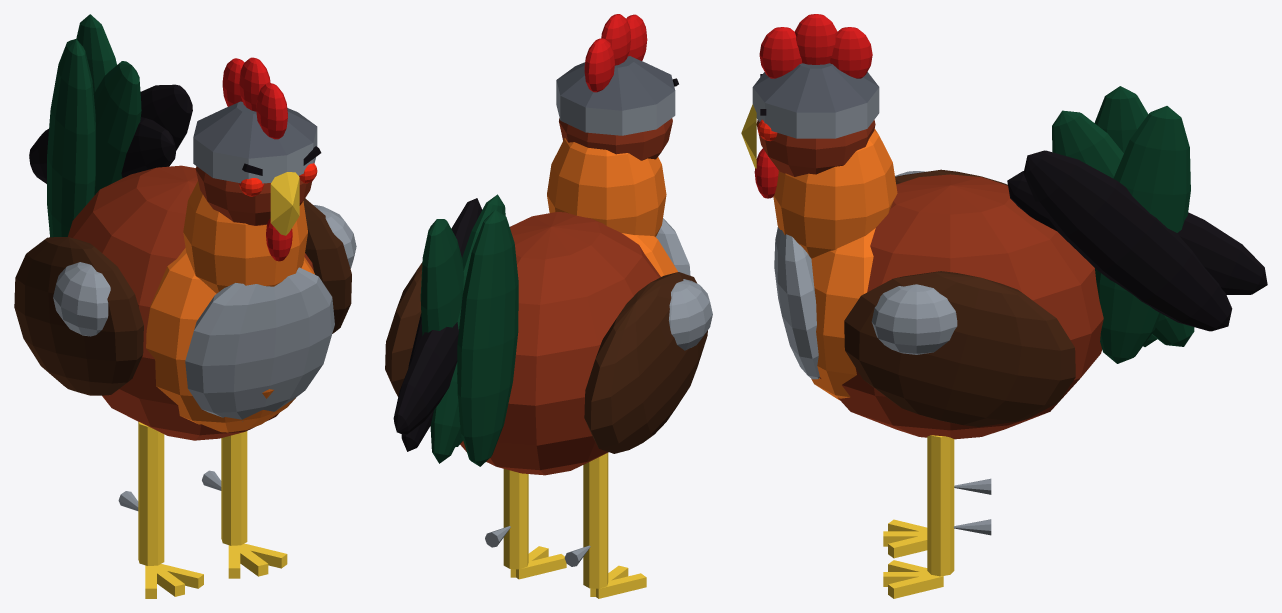
The model's file is GalloGuardian.fbx.
3 renders of one model, left to right at view 1: azimuth 30°, elevation 25°; view 2: azimuth 150°, elevation 25°; view 3: azimuth 270°, elevation 25°, orthographic. The views are drawn at different scales.
Parts seen in each view (by area): view 1: Cuerpo, Brillo_Rojo; view 2: Cuerpo; view 3: Cuerpo.
Boxes of the visible parts, x1=… form: Cuerpo: x1=14, y1=14, x2=356, y2=598; Brillo_Rojo: x1=239, y1=163, x2=317, y2=196; Cuerpo: x1=385, y1=14, x2=712, y2=598; Cuerpo: x1=741, y1=14, x2=1267, y2=598.
Size of the model in its own units: 346 by 633 by 549.
Materials: 1 (1 with a texture image).
